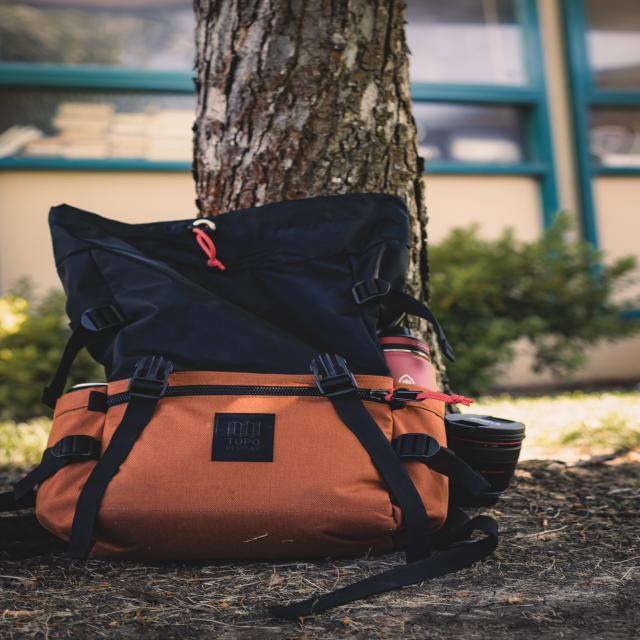backpack: (34, 205, 472, 559)
